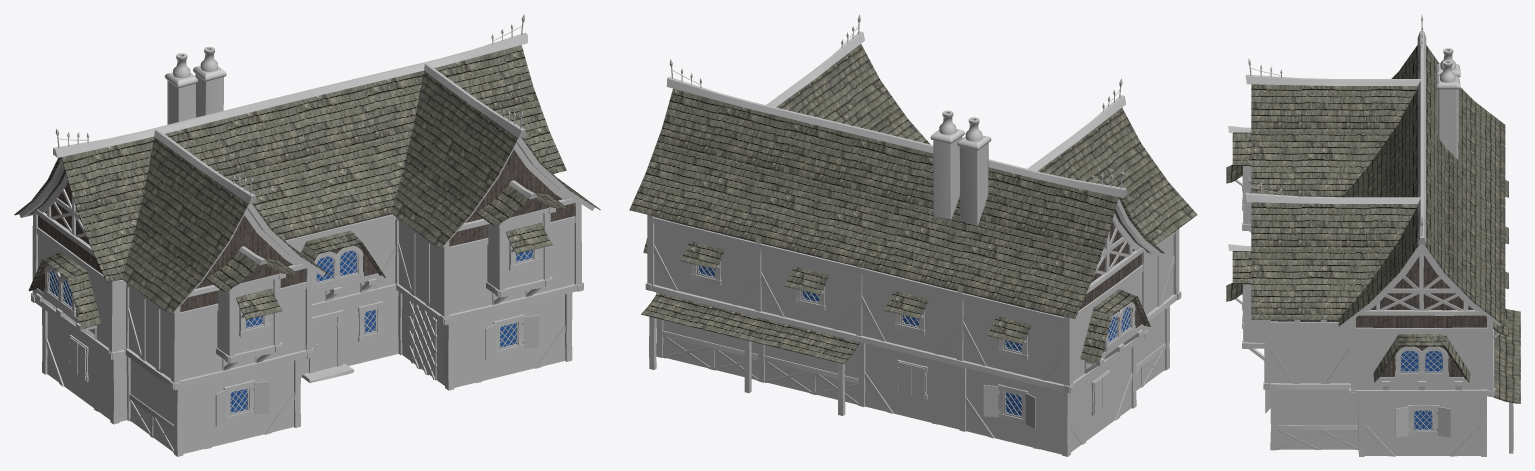
Rendered from mw_type_1_cottage_08.FBX.
3 views of the same model, side by side, from view 1: azimuth 30°, elevation 25°; view 2: azimuth 150°, elevation 25°; view 3: azimuth 270°, elevation 25° (orthographic). The views are drawn at different scales.
Parts seen in each view (by area): view 1: mw_type_1_cottage_08_roof, mw_type_1_cottage_08_wood, mw_type_1_cottage_08_stone, mw_type_1_cottage_08; view 2: mw_type_1_cottage_08_roof, mw_type_1_cottage_08_stone, mw_type_1_cottage_08_wood, mw_type_1_cottage_08; view 3: mw_type_1_cottage_08_roof, mw_type_1_cottage_08_wood, mw_type_1_cottage_08_stone, mw_type_1_cottage_08.
Boxes of the visible parts, bbox=[...] form: mw_type_1_cottage_08_roof: bbox=[14, 45, 600, 329]; mw_type_1_cottage_08_wood: bbox=[19, 32, 594, 456]; mw_type_1_cottage_08_stone: bbox=[38, 46, 574, 453]; mw_type_1_cottage_08: bbox=[48, 14, 538, 426]; mw_type_1_cottage_08_roof: bbox=[629, 44, 1197, 363]; mw_type_1_cottage_08_stone: bbox=[654, 110, 1173, 454]; mw_type_1_cottage_08_wood: bbox=[645, 31, 1181, 456]; mw_type_1_cottage_08: bbox=[669, 14, 1131, 428]; mw_type_1_cottage_08_roof: bbox=[1226, 45, 1520, 403]; mw_type_1_cottage_08_wood: bbox=[1228, 31, 1517, 456]; mw_type_1_cottage_08_stone: bbox=[1247, 48, 1487, 455]; mw_type_1_cottage_08: bbox=[1248, 14, 1450, 437].
Size of the model in its own units: 2445 by 1503 by 1471.
